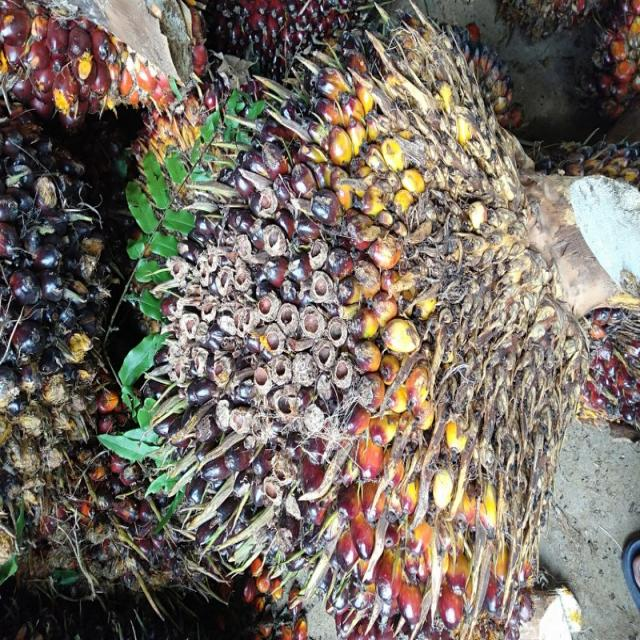fraksi 00: (154, 41, 558, 636)
